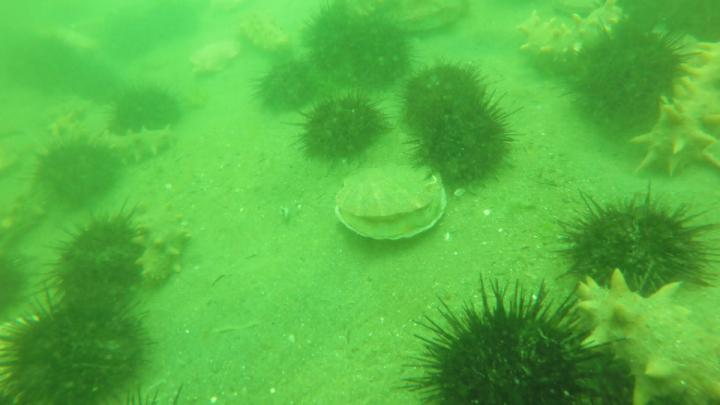echinus: (405, 268, 613, 405), (554, 180, 720, 302), (1, 294, 153, 405), (563, 22, 695, 126), (46, 202, 148, 314), (414, 98, 525, 195), (24, 131, 126, 209), (287, 95, 396, 165), (398, 59, 493, 139), (331, 19, 411, 93), (102, 81, 189, 132), (253, 61, 326, 116), (1, 242, 31, 324)
holothurian: (581, 268, 719, 405), (632, 41, 720, 174), (517, 1, 626, 72), (139, 214, 194, 285), (86, 126, 181, 167), (240, 9, 295, 56)
scallop: (332, 167, 448, 245), (188, 36, 240, 80)
